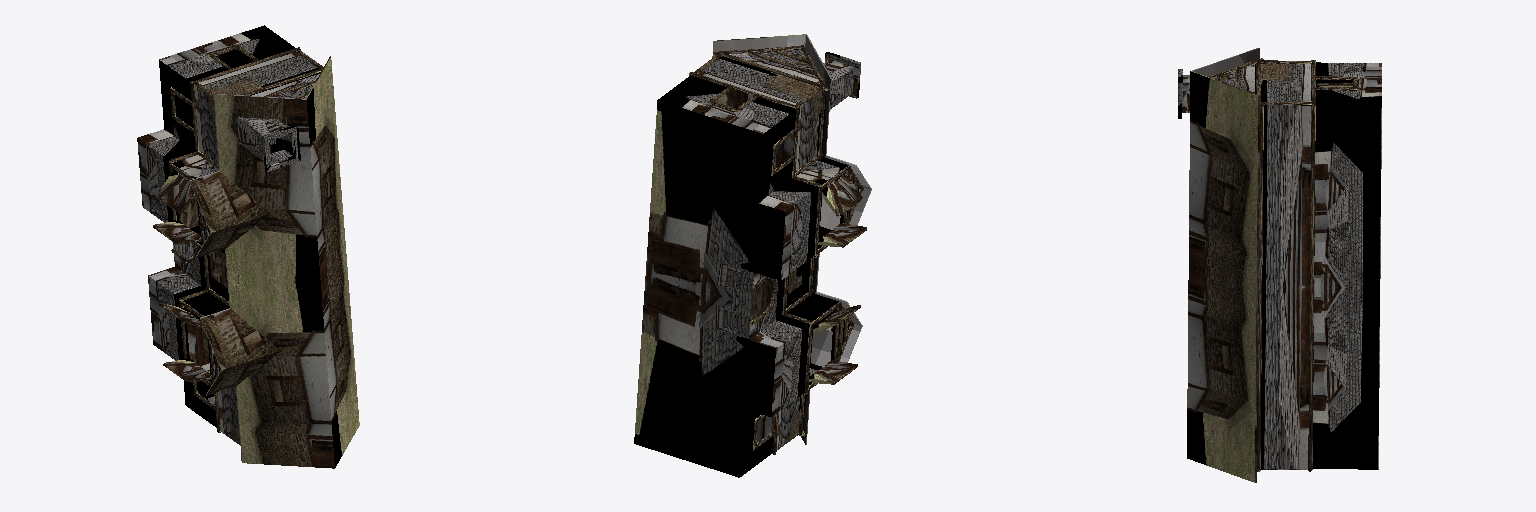
The picture shows the model from 3 angles: view 1: azimuth 30°, elevation 25°; view 2: azimuth 150°, elevation 25°; view 3: azimuth 270°, elevation 25°; orthographic projection.
Parts seen in each view (by area): view 1: Cube_003; view 2: Cube_003; view 3: Cube_003.
Part boxes in pixels (x1,y1,x2,y2): Cube_003: (137,25,359,468); Cube_003: (634,34,871,477); Cube_003: (1178,48,1381,482).
Bounding box in the file's own units: 4412 × 8862 × 4277.
Materials: 2 (2 with a texture image).